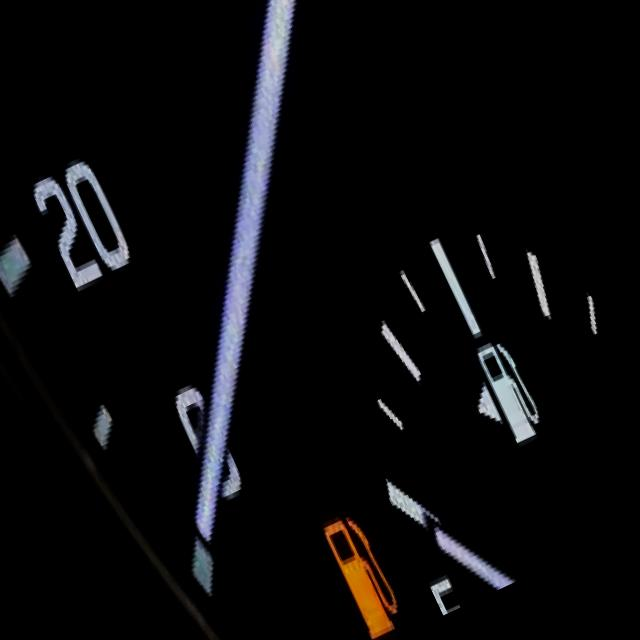kontrolka: (297, 482, 415, 640)
